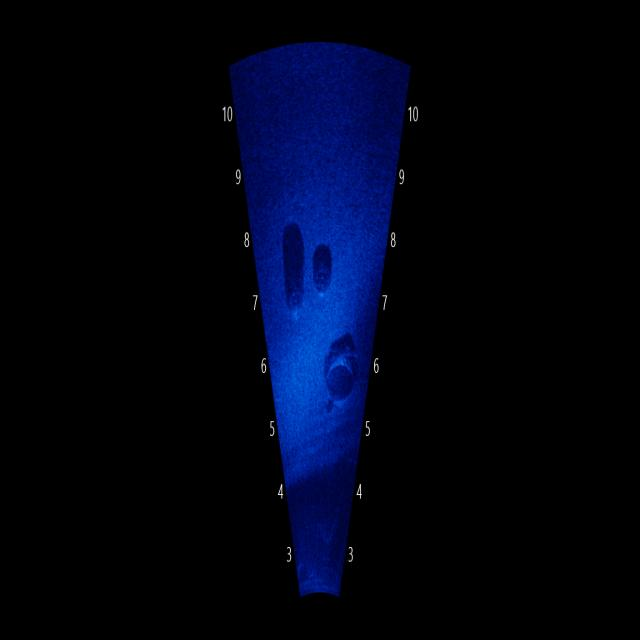circle: (312, 338, 368, 428), (282, 268, 314, 336), (306, 245, 339, 299)
